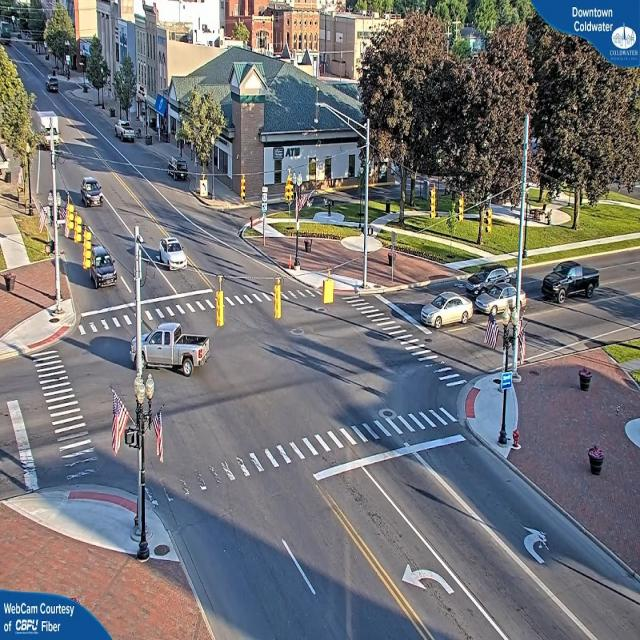car: (143, 323, 211, 379), (542, 262, 602, 300), (475, 282, 529, 316), (423, 296, 471, 329), (465, 262, 515, 292), (88, 248, 118, 287), (158, 236, 188, 270), (80, 177, 105, 208), (115, 123, 136, 143), (47, 76, 60, 94)
